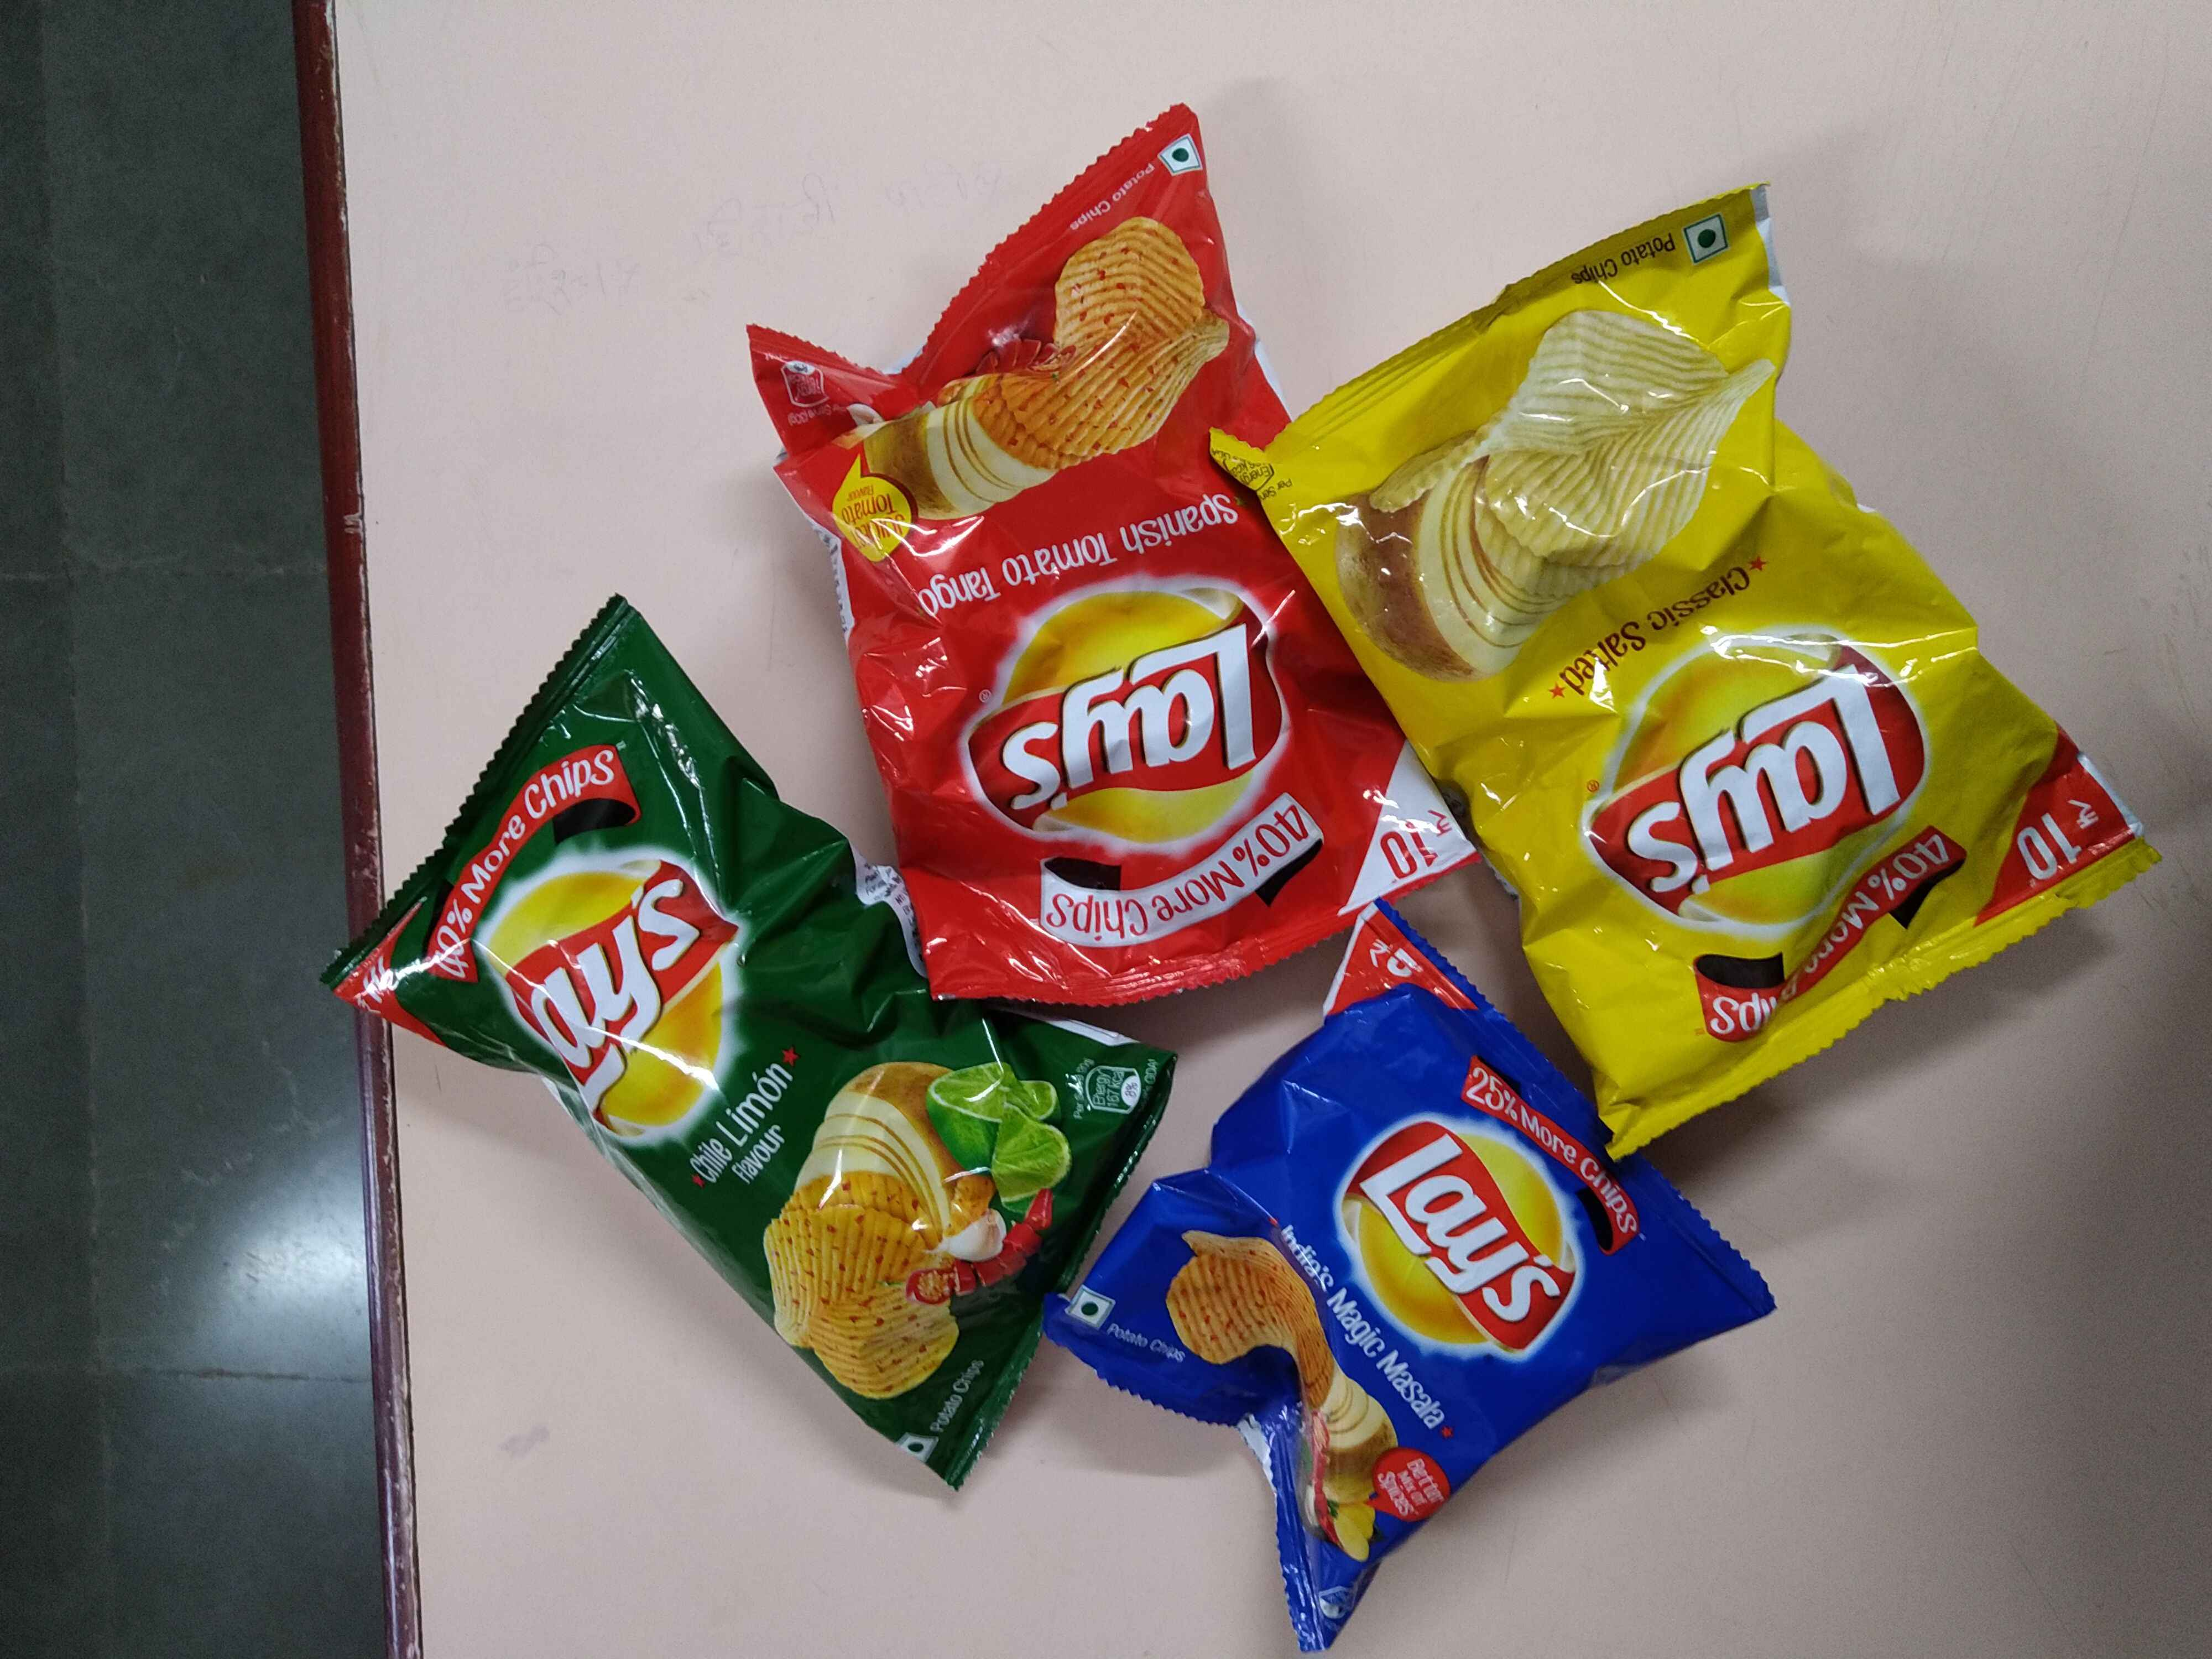Lays: (1595, 624, 1935, 951), (958, 573, 1301, 861), (470, 863, 732, 1155), (1334, 1098, 1595, 1361)
